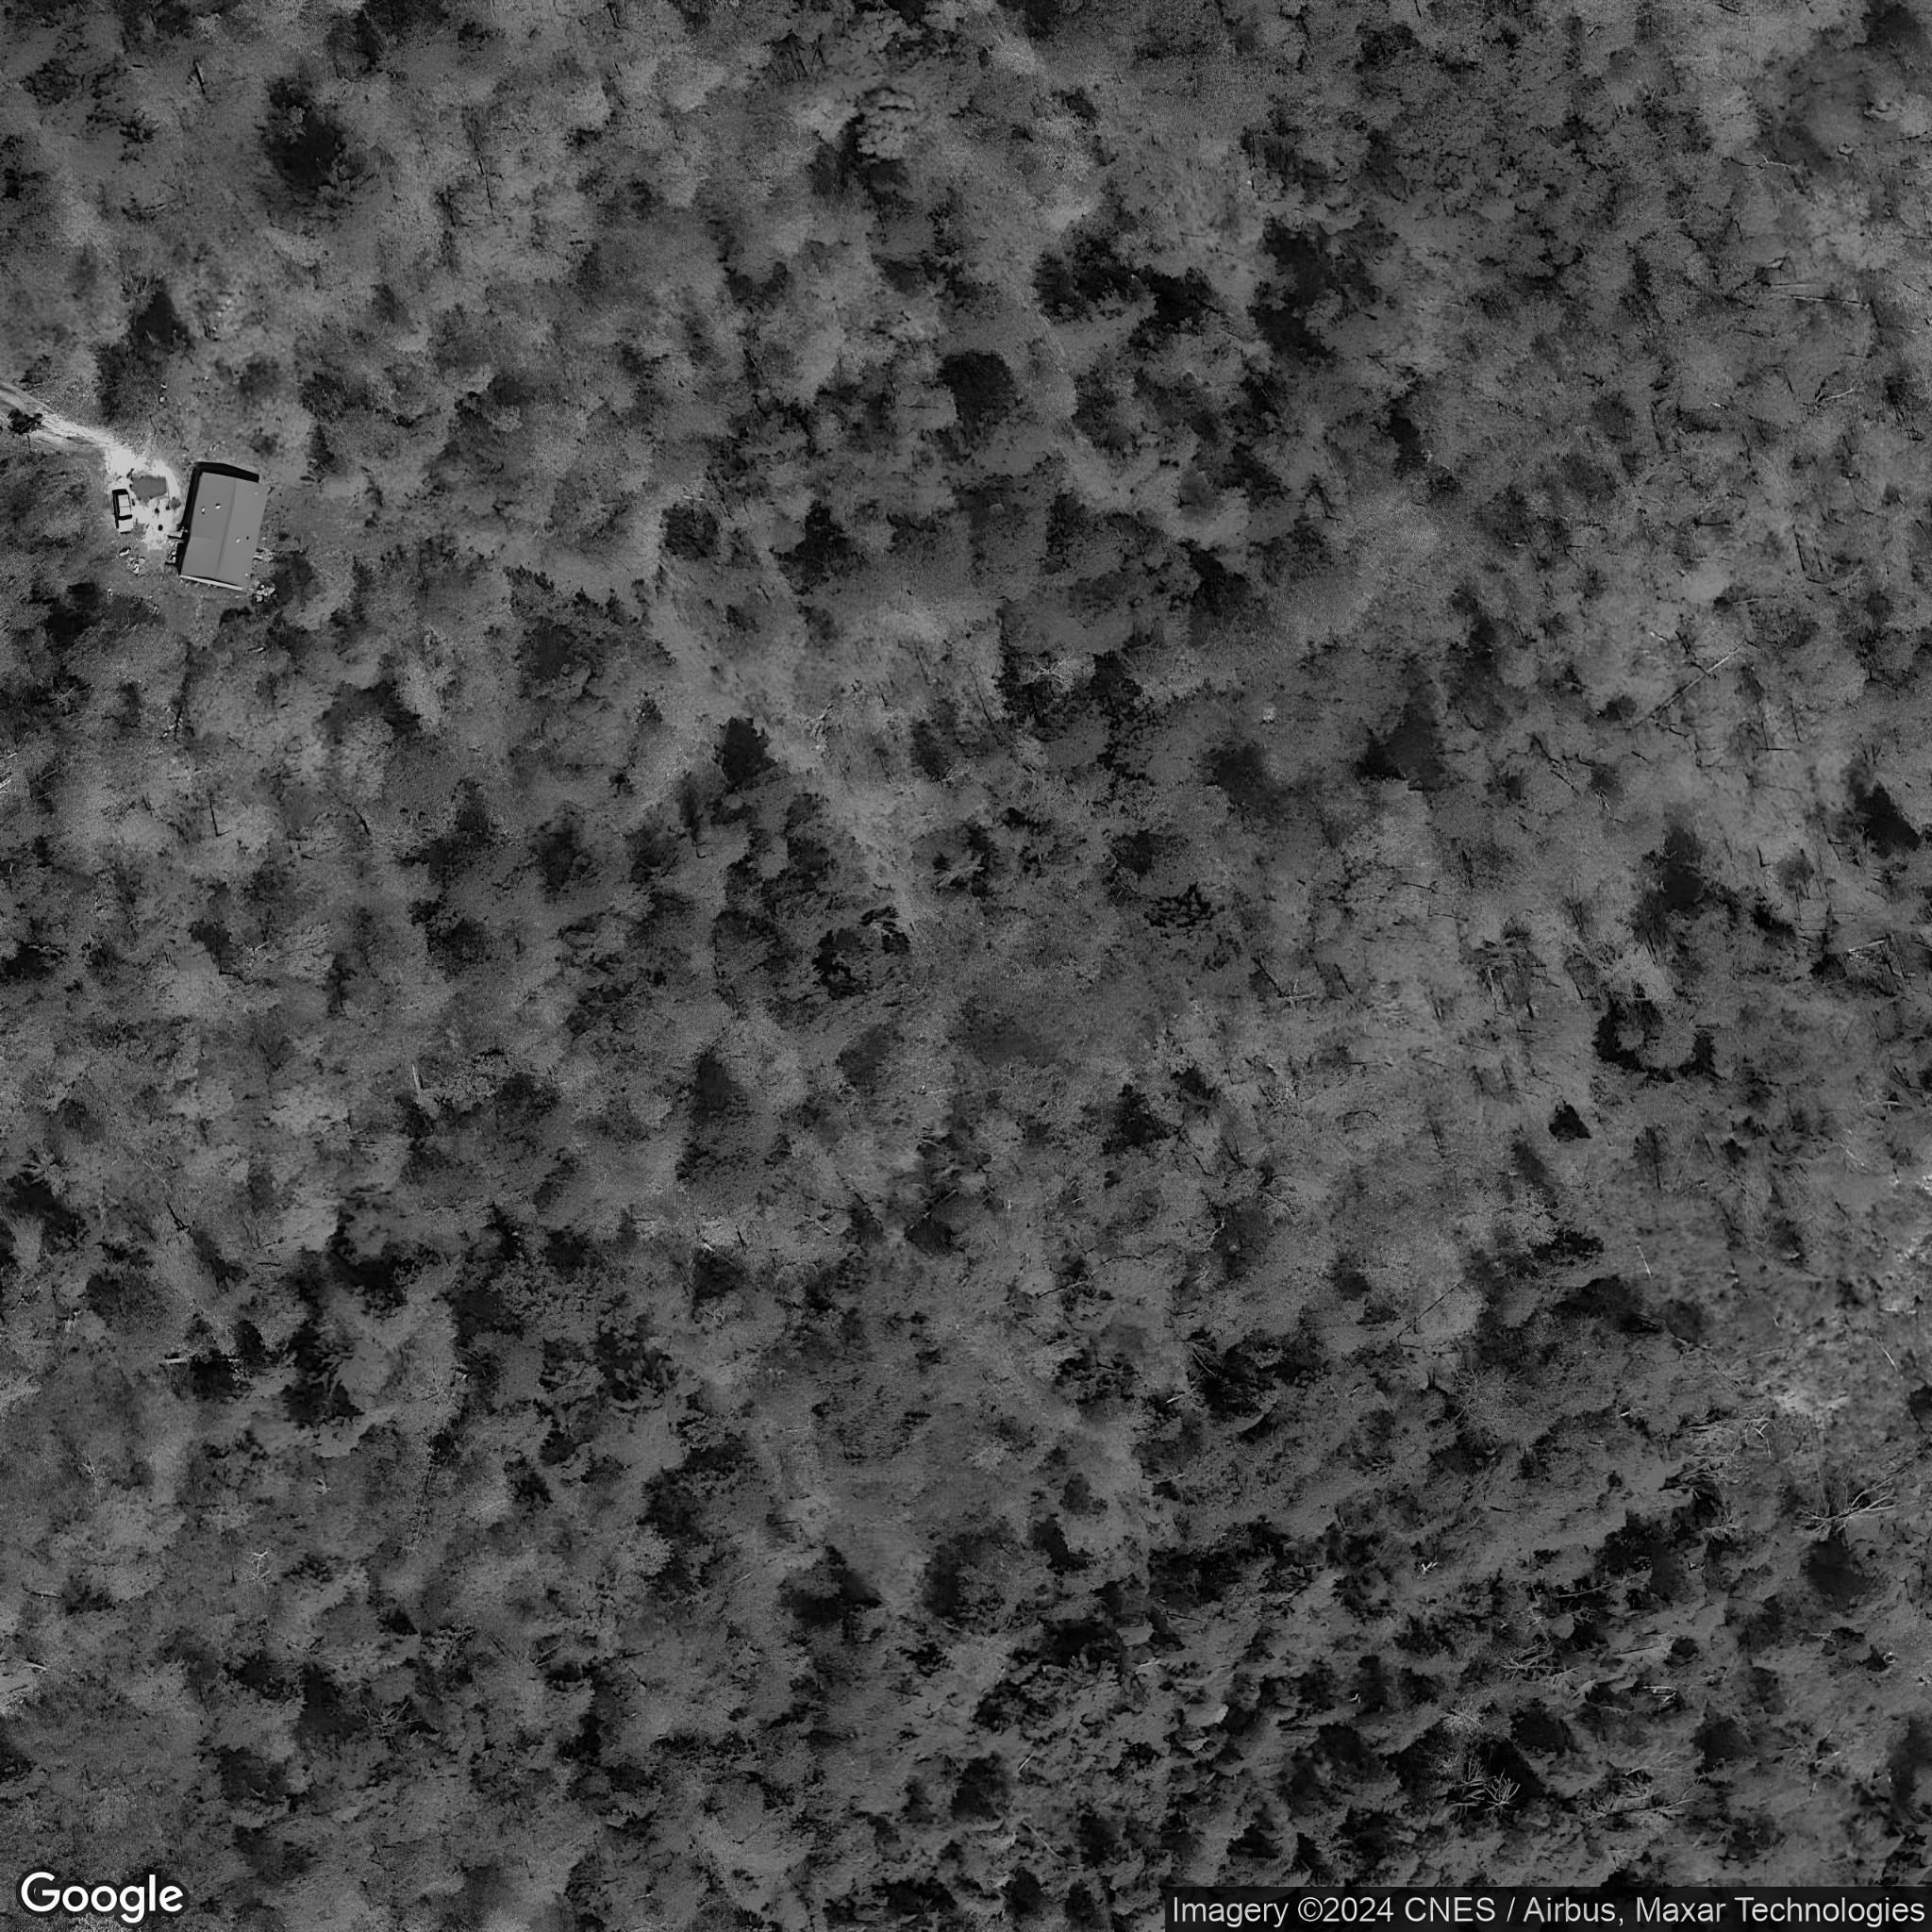House: (180, 467, 271, 594)
